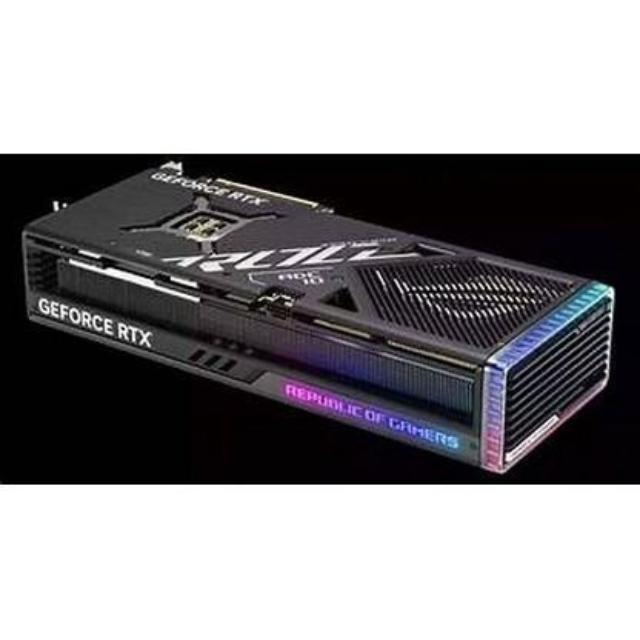GPU: (16, 152, 636, 474)
